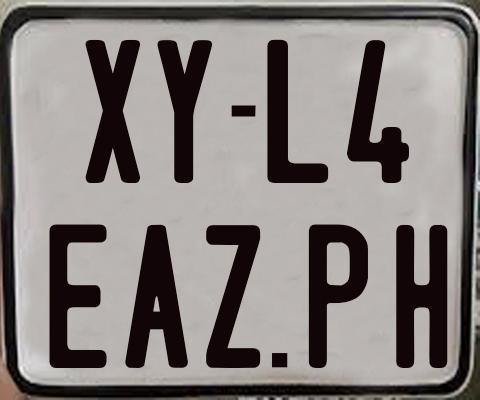4: (345, 40, 410, 188)
A: (124, 223, 189, 372)
E: (47, 222, 107, 371)
H: (394, 222, 450, 371)
L: (264, 39, 329, 187)
P: (309, 221, 368, 368)
X: (85, 38, 143, 186)
Y: (156, 38, 216, 186)
Z: (204, 222, 258, 365)
